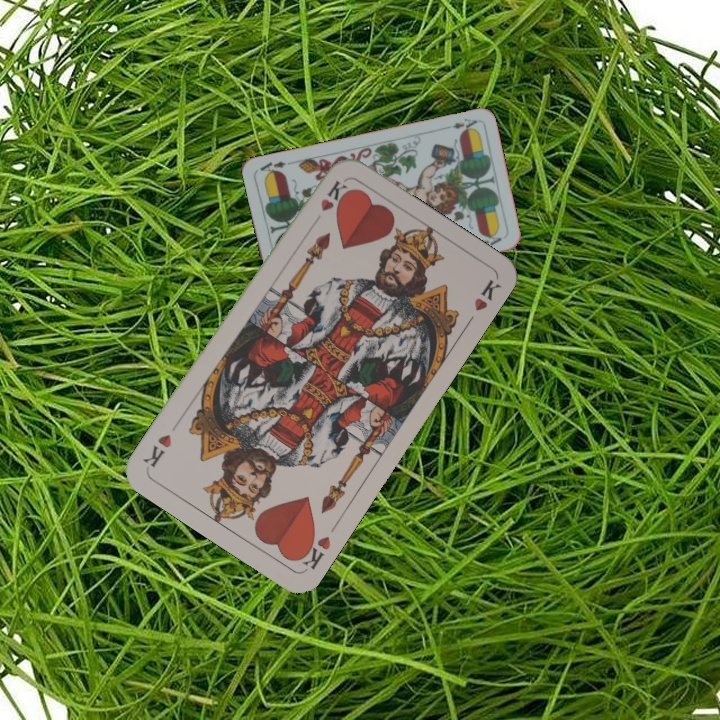EA: (448, 114, 480, 135)
HK: (293, 529, 334, 573), (316, 176, 348, 214)
